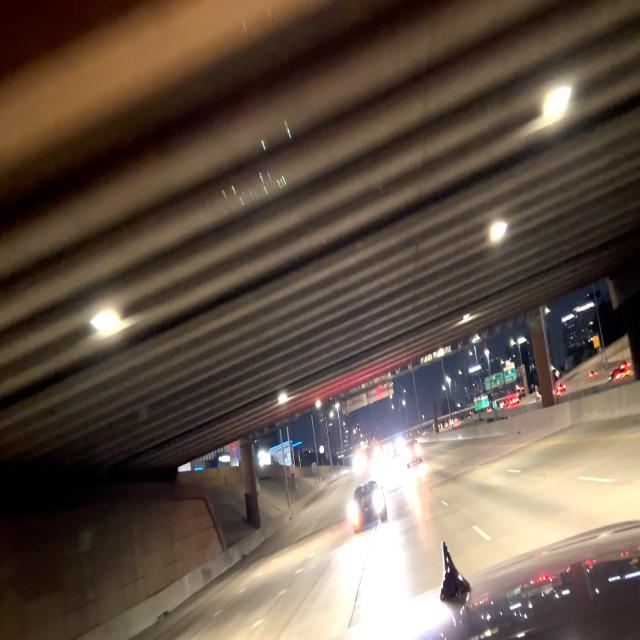back-of-sign: (346, 371, 394, 418)
